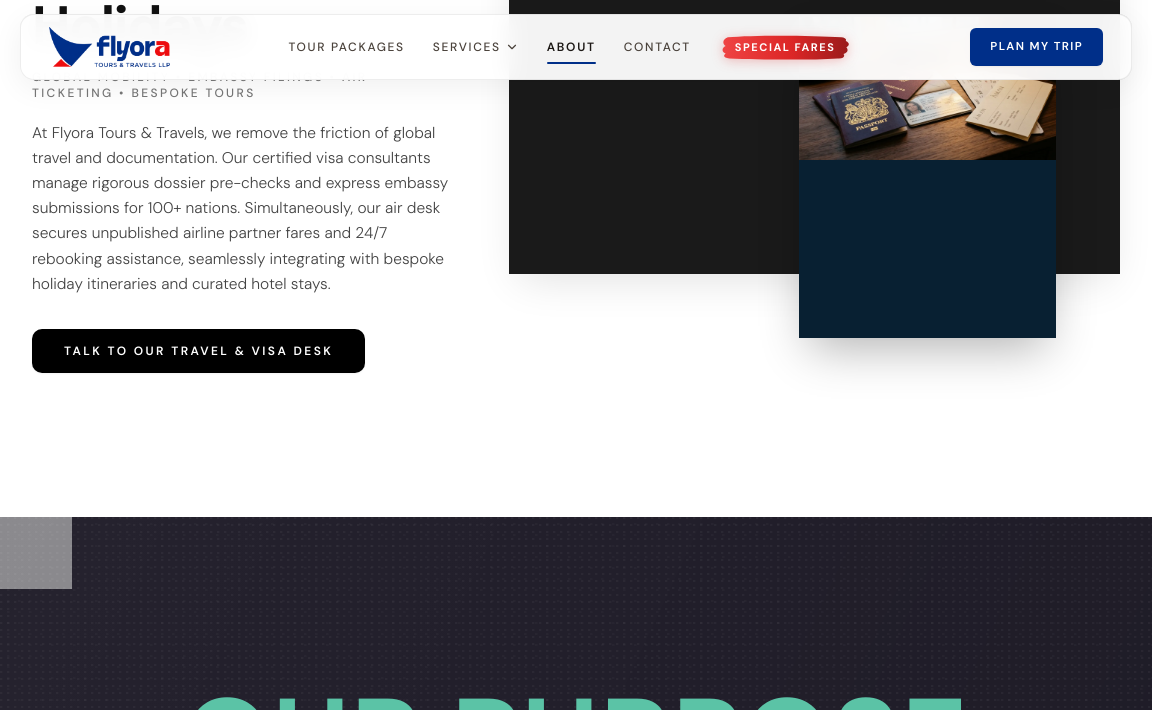
Test case: About Us Page › opens the enquiry modal when clicking 'TALK TO OUR TRAVEL & VISA DESK'
The width and height of the screenshot is (1152, 710).
(page scrolled)
Step 1. Click the button "TALK TO OUR TRAVEL & VISA DESK" → (199, 351), box left=32, top=329, right=365, bottom=373
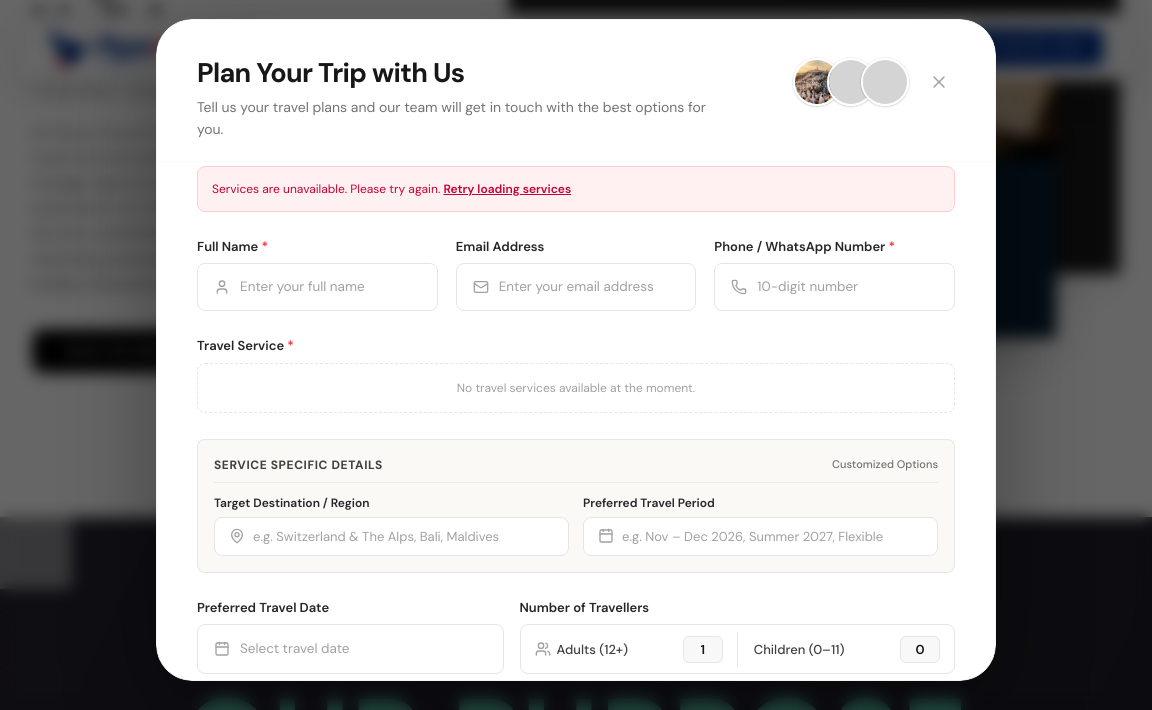
Result: the dialog is shown
